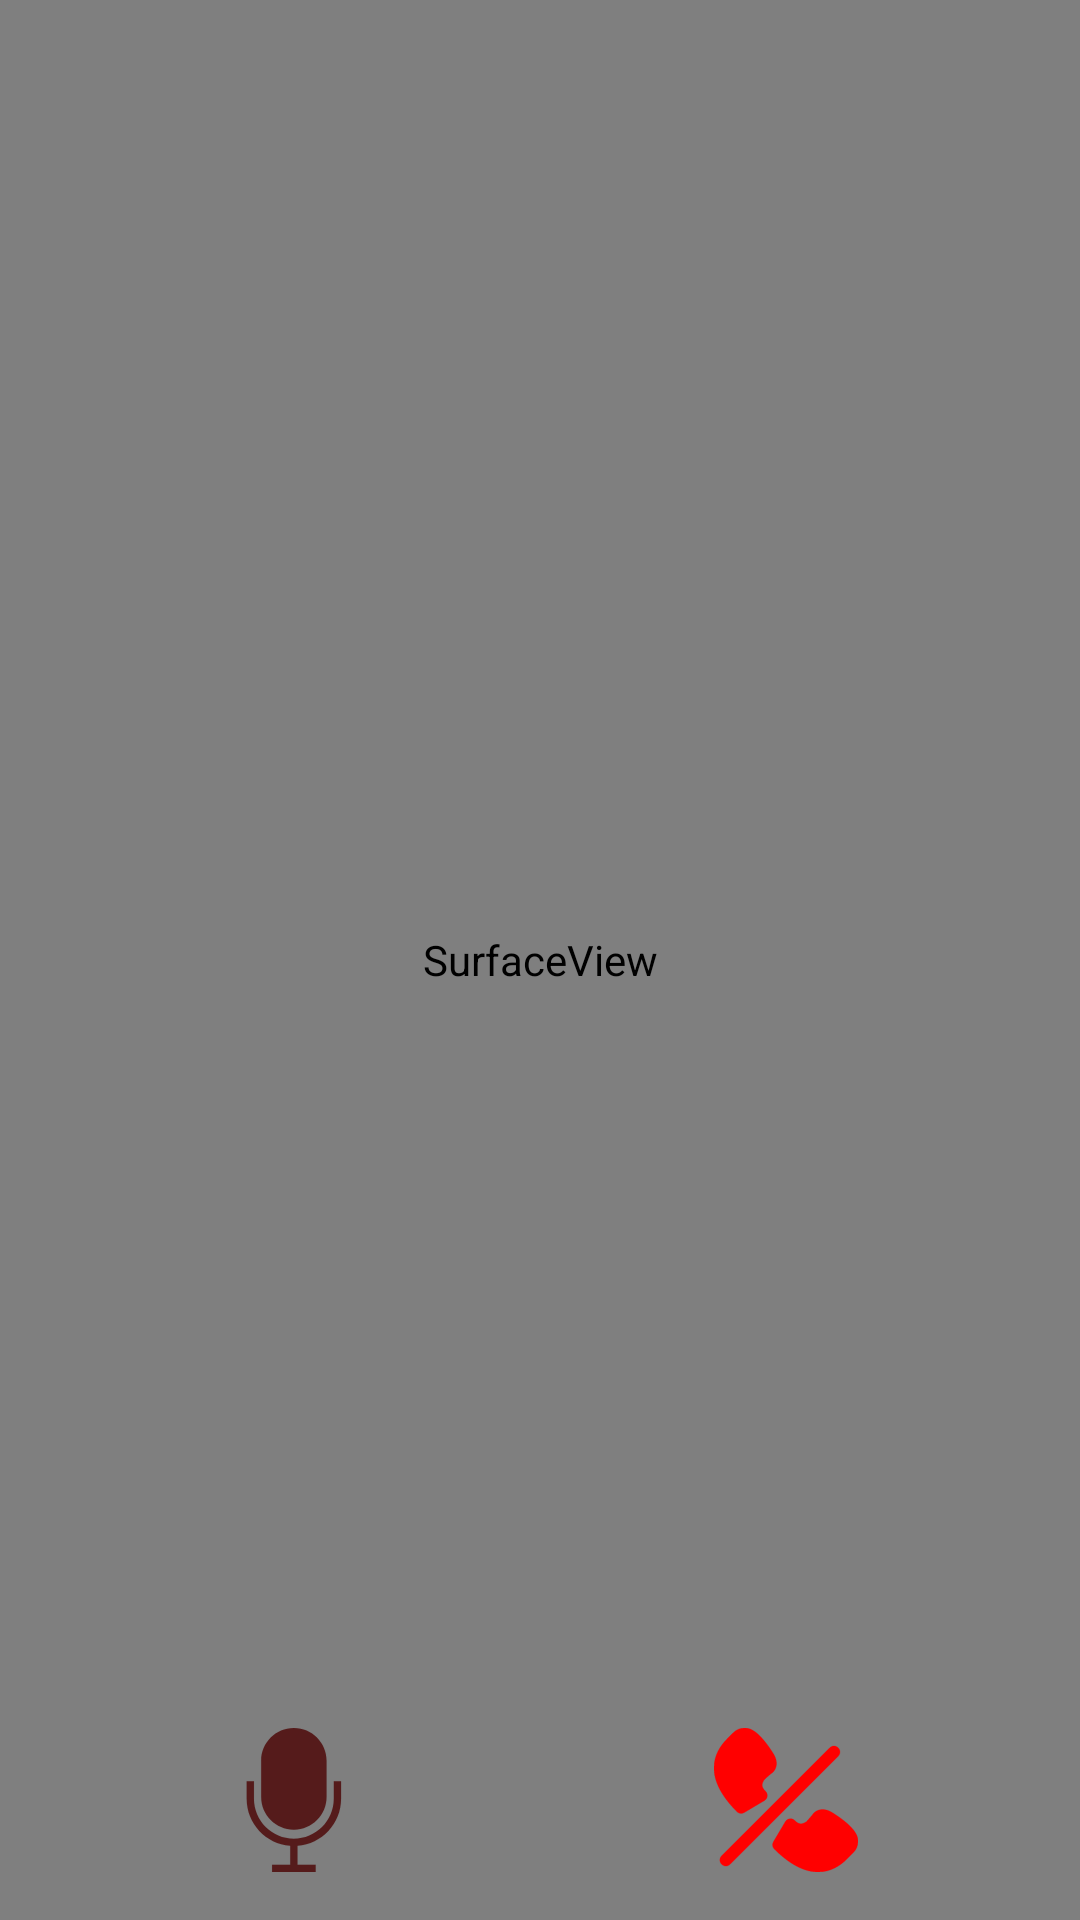

Point at icon controls on the screen. Image size 1080 x 1920, points as (x=x, y=y).
mic: (x=293, y=1800)
